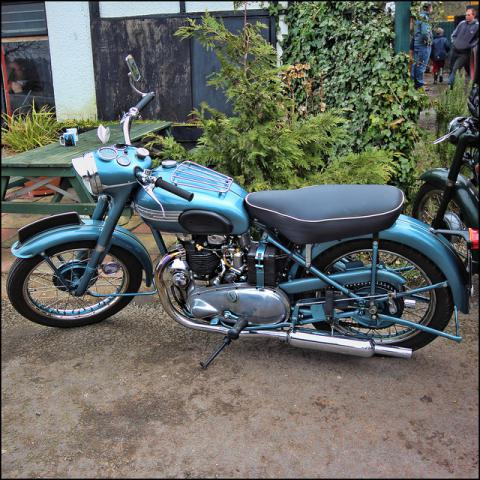motorcycle: (8, 55, 480, 370), (413, 114, 479, 265)
